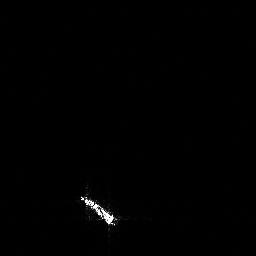ship: (77, 194, 119, 229)
